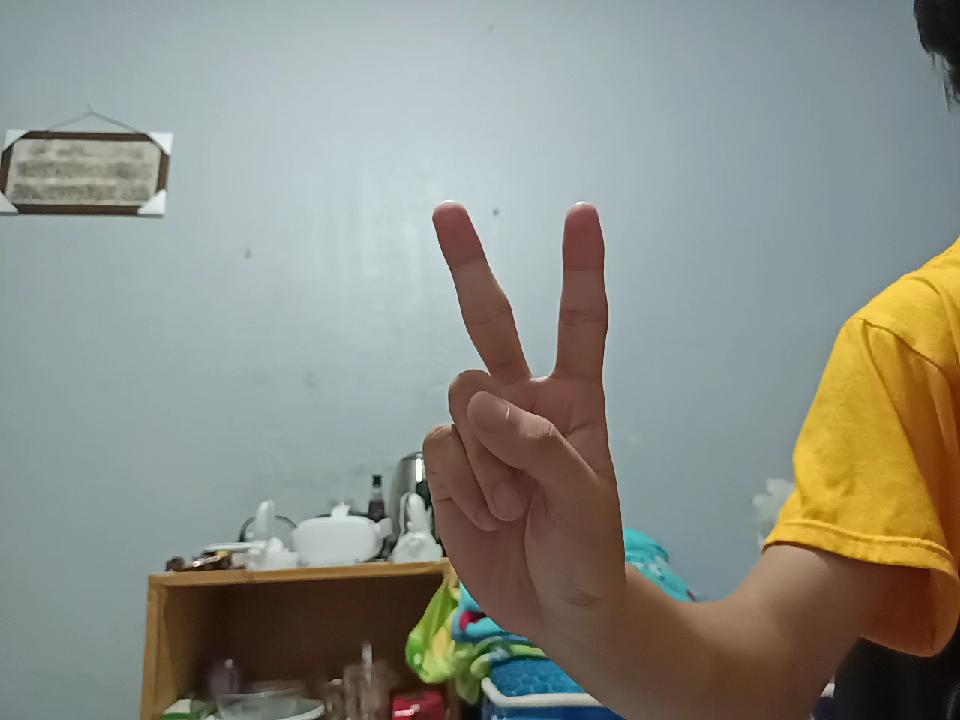scissors: (419, 172, 638, 650)
